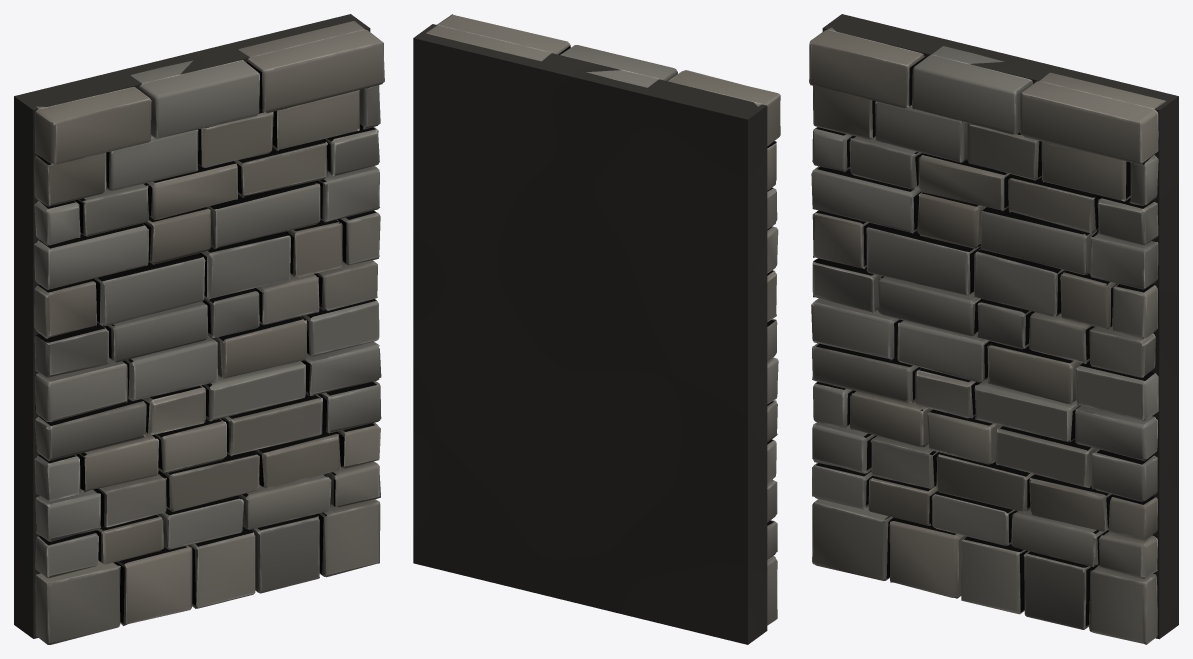
The model's file is gallows_wall.glb.
3 views of the same model, side by side, from view 1: azimuth 30°, elevation 25°; view 2: azimuth 150°, elevation 25°; view 3: azimuth 330°, elevation 25° (orthographic).
Parts seen in each view (by area): view 1: gallows_wall; view 2: gallows_wall; view 3: gallows_wall.
Boxes of the visible parts, <box> form: gallows_wall: <box>14,14,384,644</box>; gallows_wall: <box>413,14,780,644</box>; gallows_wall: <box>809,14,1178,644</box>.
Size of the model in its own units: 4 by 6.01 by 0.7599.
1 material, 1 textured.
